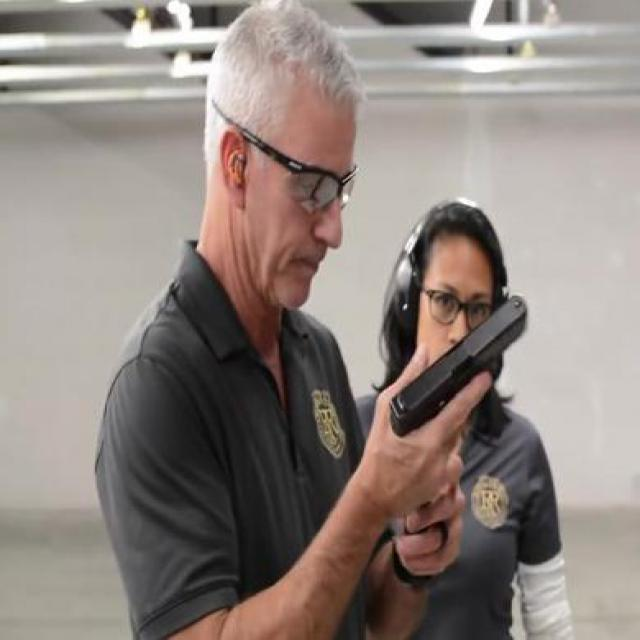gun: (380, 288, 536, 488)
